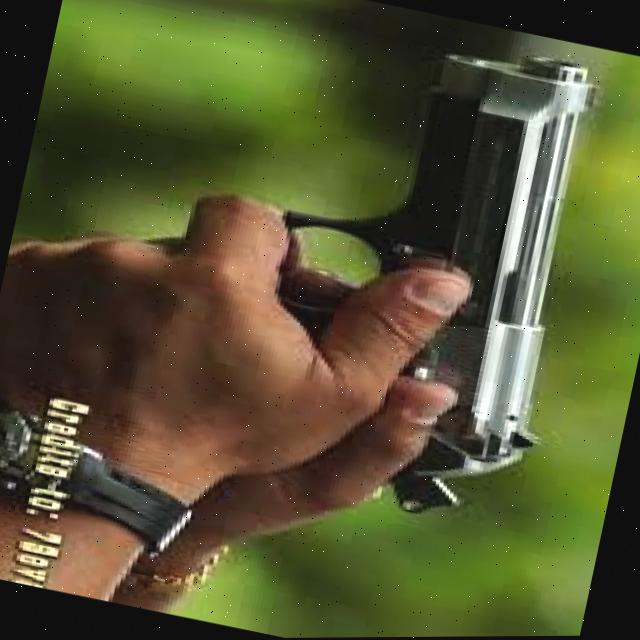pistol: (224, 9, 622, 541)
